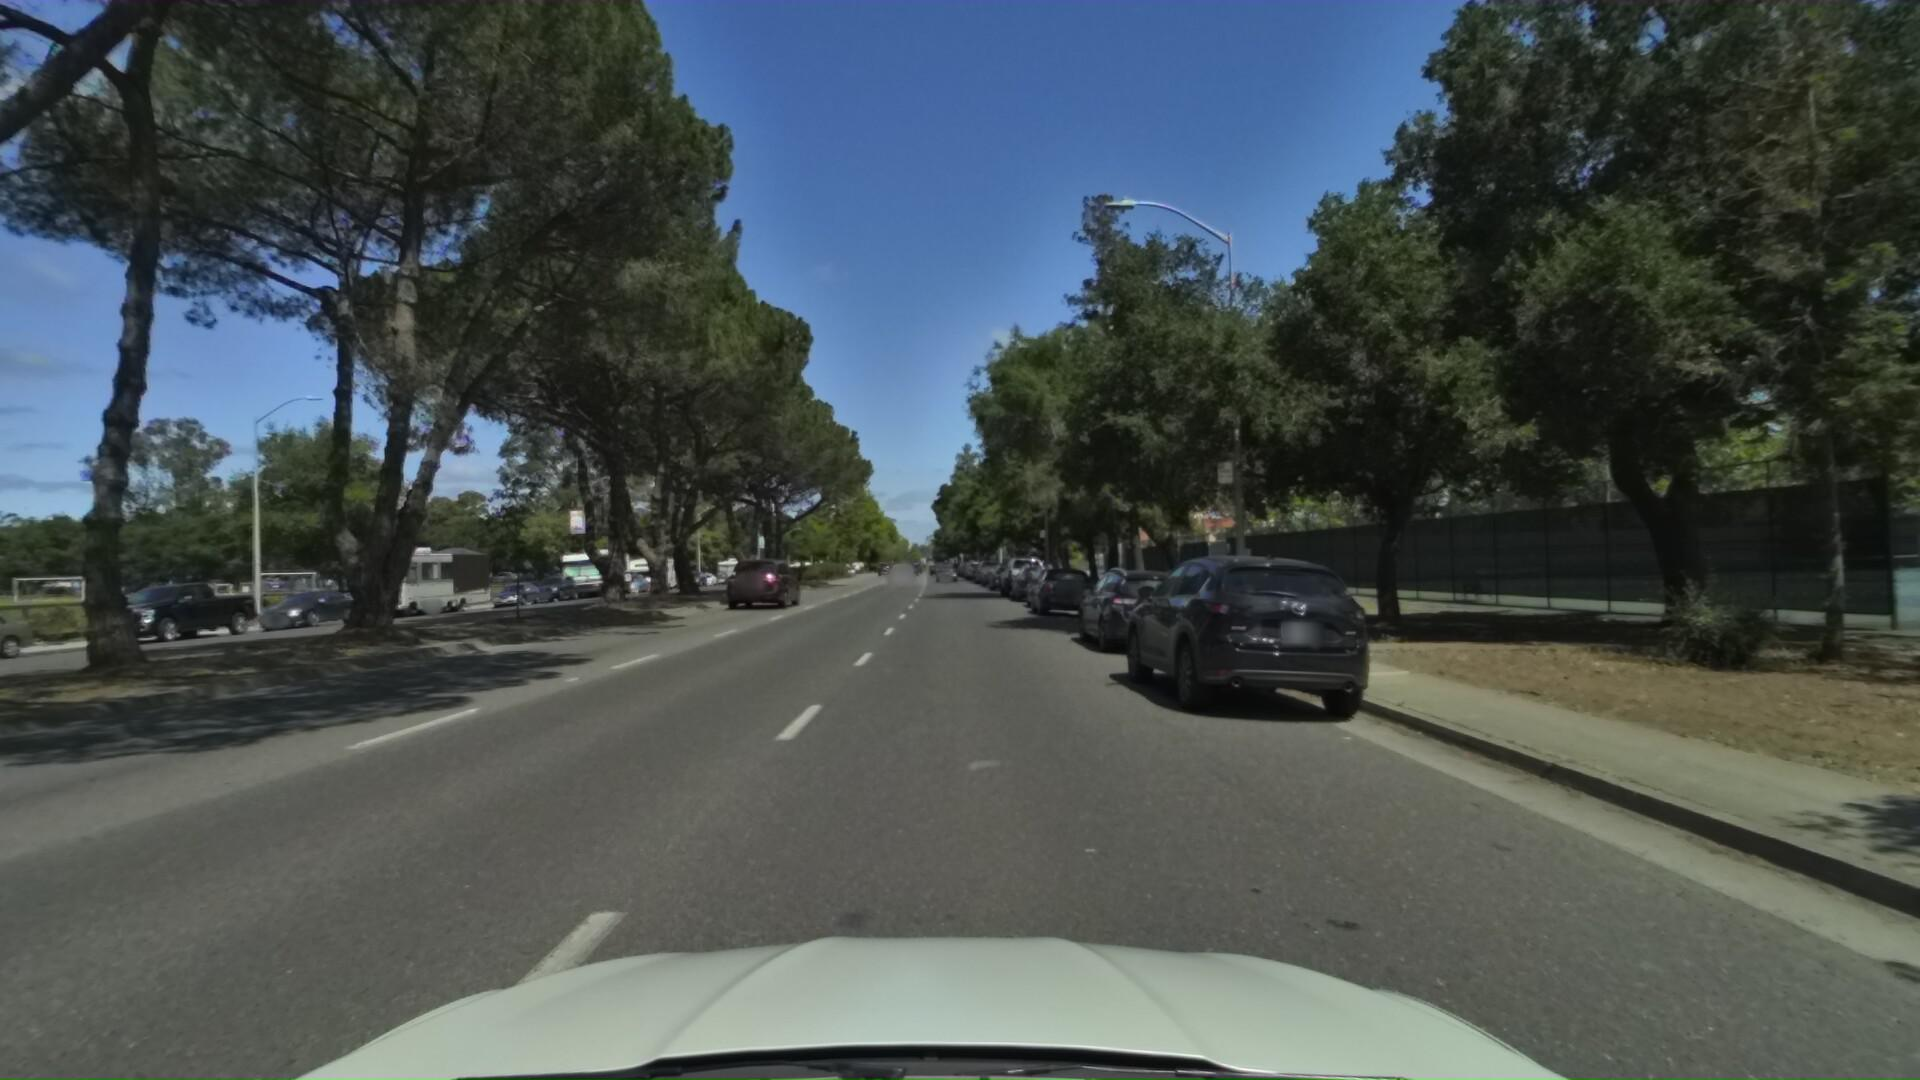car: (1118, 538, 1393, 733), (1072, 554, 1220, 657), (65, 575, 261, 645), (244, 579, 363, 632), (723, 551, 802, 615), (1029, 558, 1102, 615), (1022, 555, 1087, 607), (0, 597, 36, 679), (997, 545, 1050, 592), (1007, 553, 1060, 596), (527, 562, 582, 597), (484, 574, 543, 603), (986, 553, 1025, 585), (973, 549, 1005, 578), (978, 555, 1009, 579), (932, 559, 957, 585), (887, 559, 913, 582)
other_vehicle: (335, 535, 495, 617), (554, 538, 633, 593)
